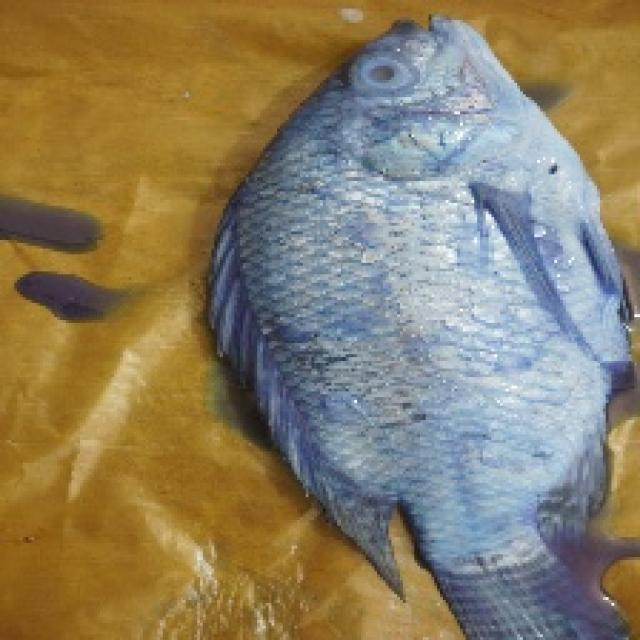Non-Fresh: (216, 0, 640, 591), (341, 44, 424, 112)
